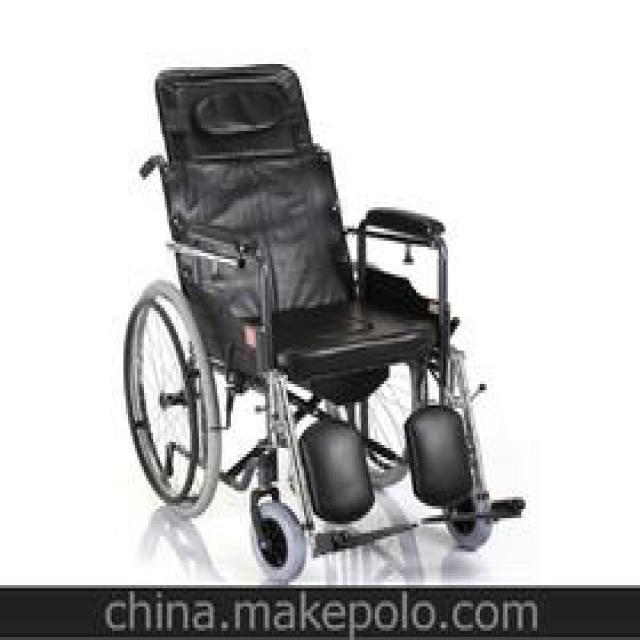wheelchairs: (124, 60, 521, 581)
